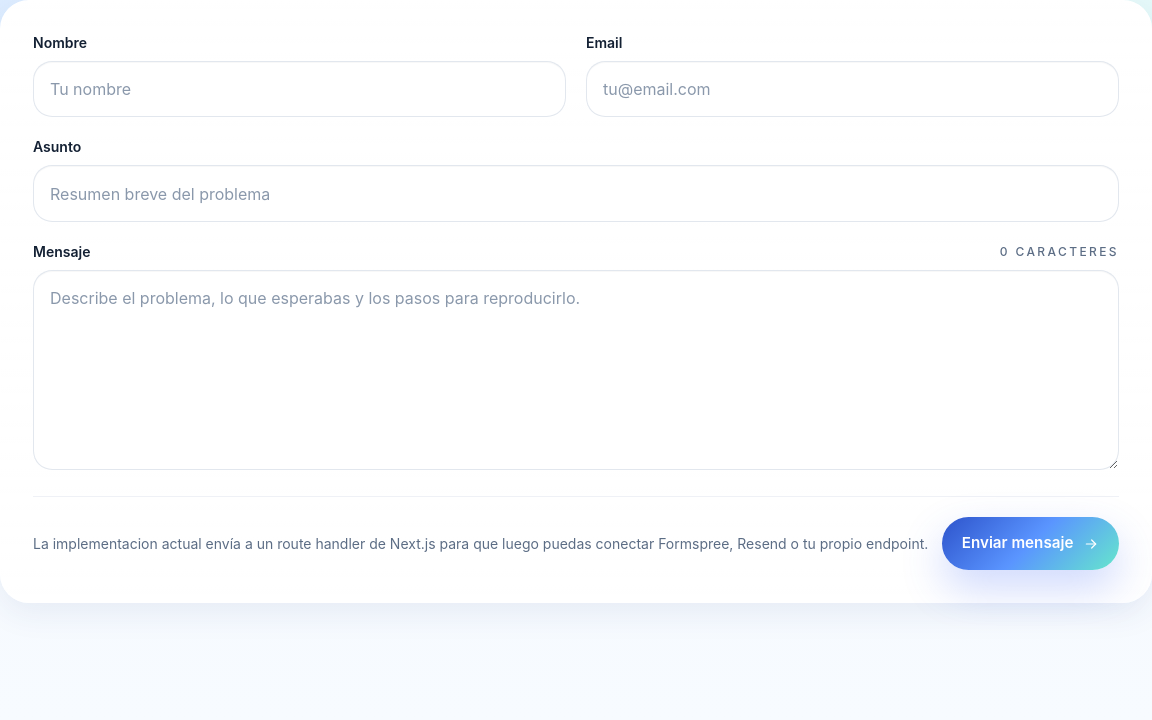
SupportForm › shows spanish validation messages when submitted empty
The image size is (1152, 720).
Click the button "Enviar mensaje" at (1030, 544), box [942,517,1119,570]
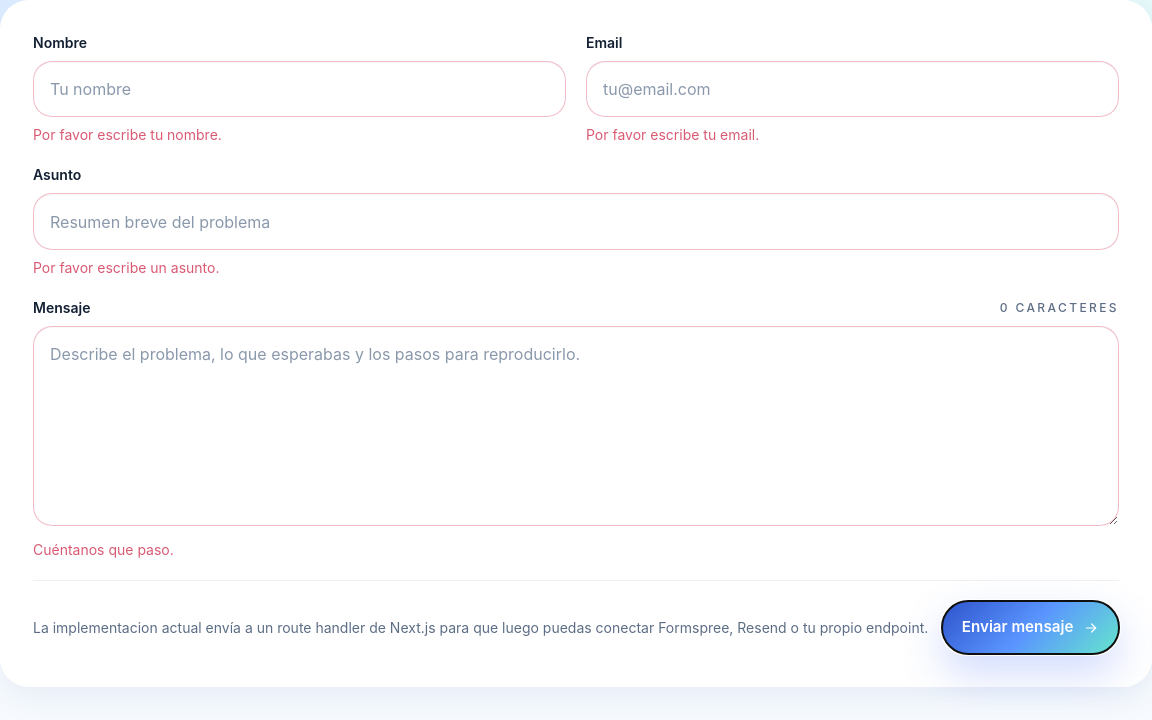
Now the text "Por favor escribe tu nombre." is shown, box [33,126,222,143]
Now the text "Por favor escribe tu email." is shown, box [586,126,759,143]
Now the text "Por favor escribe un asunto." is shown, box [33,259,220,276]
